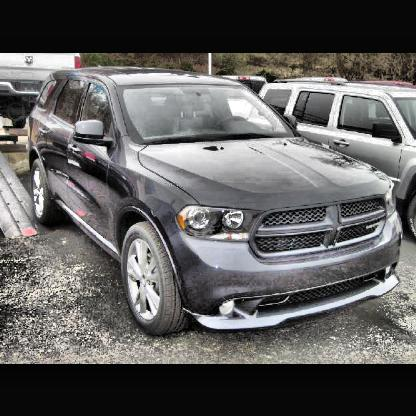Dodge Durango SUV 2012: (26, 66, 404, 339)
